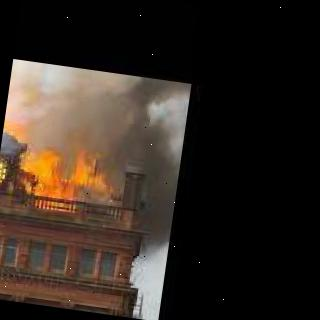fire: (100, 74, 187, 264), (0, 123, 120, 221)
